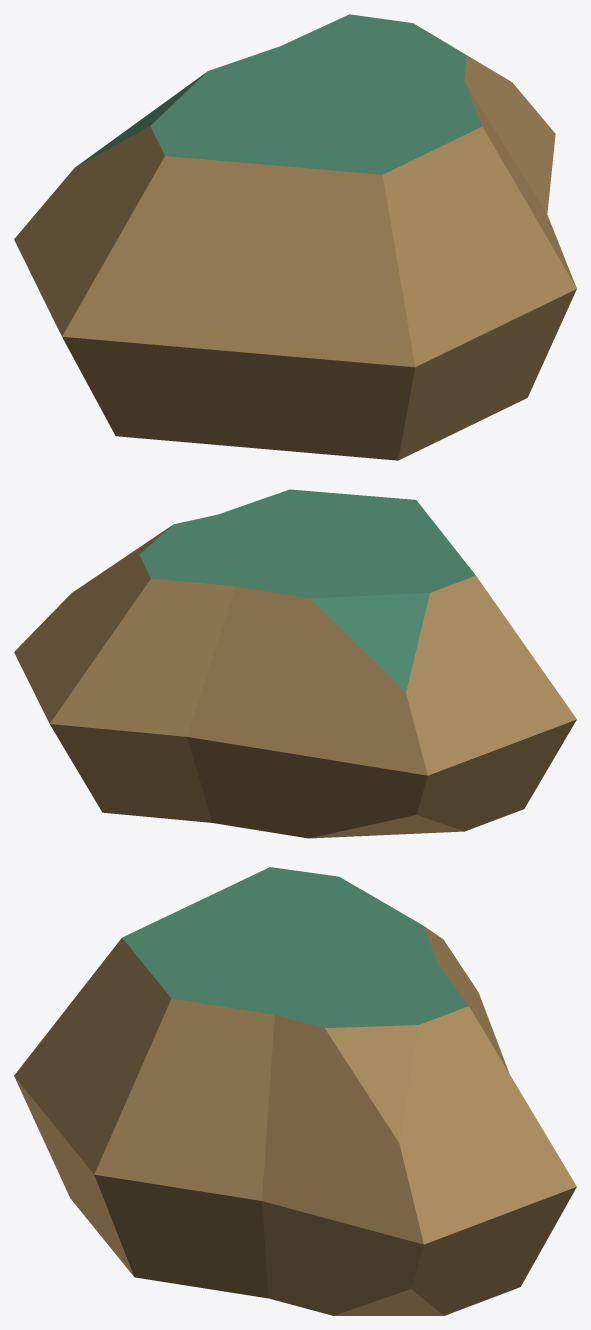
File: naturePack_007.obj
The picture shows the model from 3 angles, top to bottom: view 1: azimuth 30°, elevation 25°; view 2: azimuth 150°, elevation 25°; view 3: azimuth 270°, elevation 25°; orthographic projection. The views are drawn at different scales.
Visible parts, largest first — view 1: Mesh1_Group1_Model; view 2: Mesh1_Group1_Model; view 3: Mesh1_Group1_Model.
Boxes of the visible parts, x1,y1,x2,y2 form: Mesh1_Group1_Model: (14,14,576,460); Mesh1_Group1_Model: (14,489,576,838); Mesh1_Group1_Model: (14,867,576,1315).
Size of the model in its own units: 3.04 by 1.33 by 2.55.
